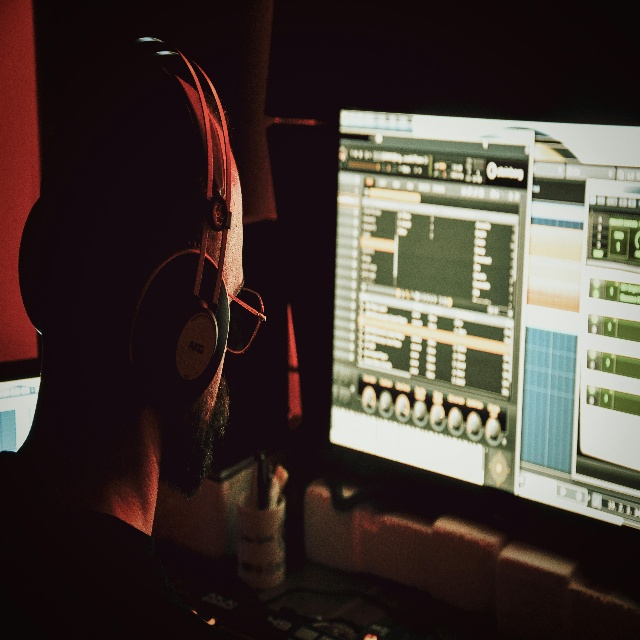Gafas: (226, 287, 266, 355)
